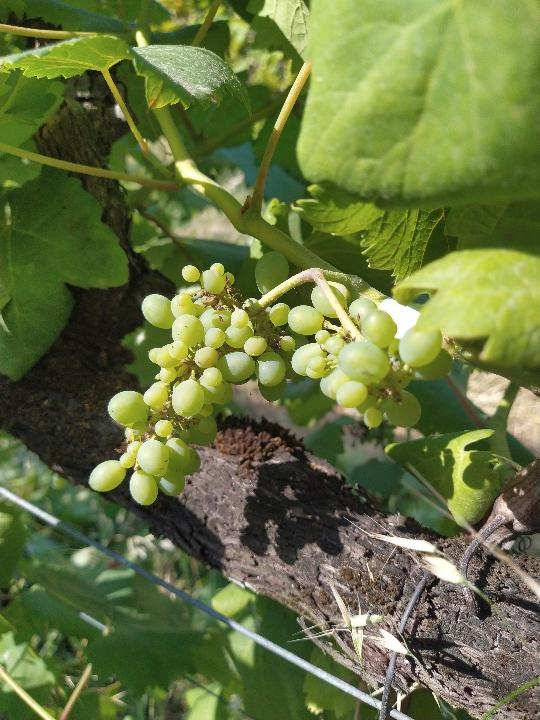grape: (83, 249, 458, 509)
